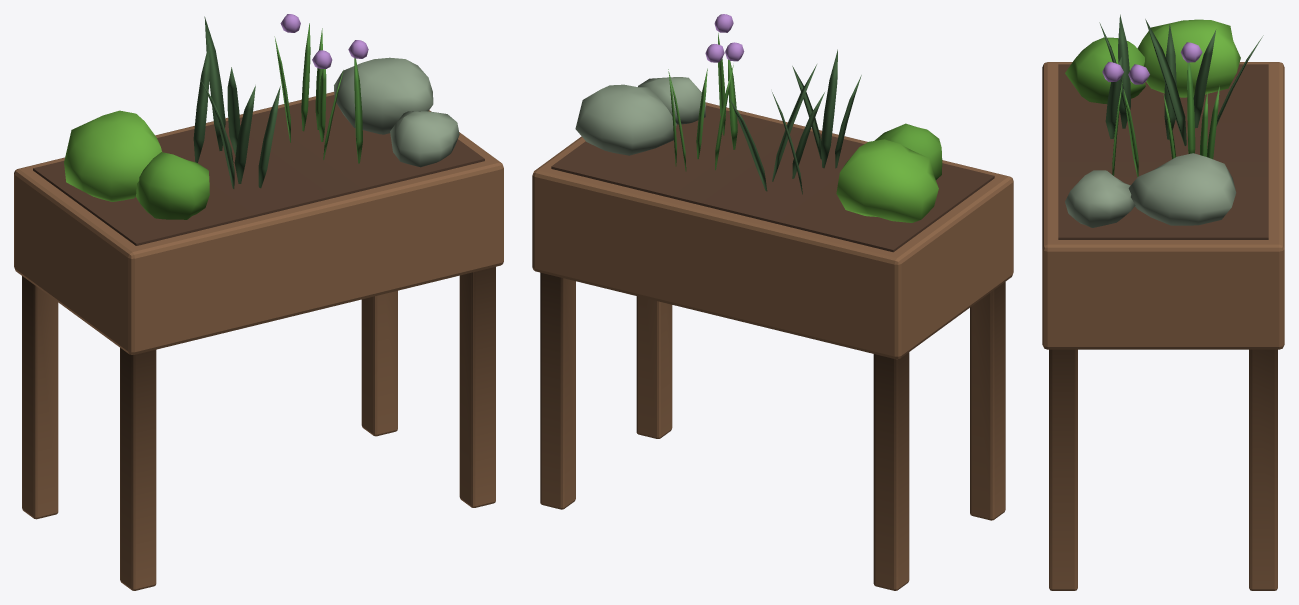
Rendered from herbs.glb.
3 renders of one model, left to right at view 1: azimuth 30°, elevation 25°; view 2: azimuth 150°, elevation 25°; view 3: azimuth 270°, elevation 25°, orthographic. The views are drawn at different scales.
Visible parts, largest first — view 1: herbs, sprigs; view 2: herbs, sprigs; view 3: herbs, sprigs.
Part boxes in pixels (x1,y1,x2,y2): herbs: [14, 14, 503, 590]; sprigs: [64, 110, 161, 201]; herbs: [532, 14, 1013, 590]; sprigs: [836, 139, 938, 222]; herbs: [1042, 14, 1284, 590]; sprigs: [1137, 19, 1240, 97].
Bounding box in the file's own units: 0.84 × 1.01 × 0.46.
